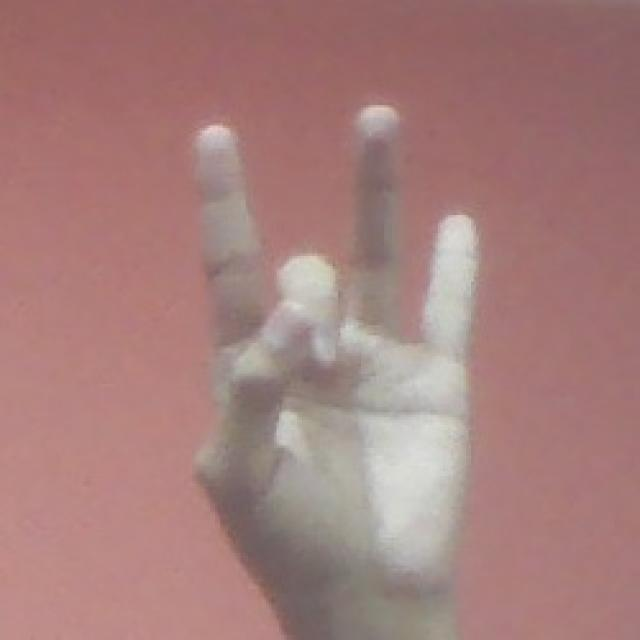Numeric-8: (188, 105, 478, 602)
